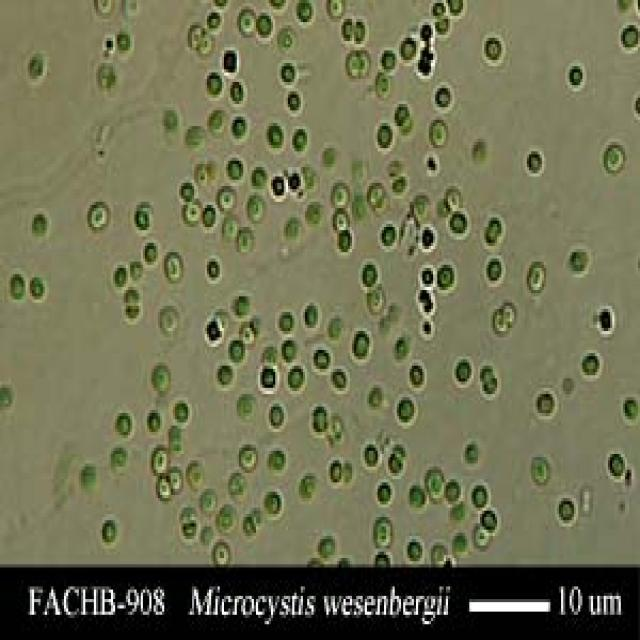Blue Green Algae: (371, 116, 397, 154), (482, 32, 506, 72), (235, 441, 262, 476), (245, 189, 269, 227), (482, 214, 508, 249), (254, 10, 277, 48), (482, 252, 506, 287), (134, 198, 156, 236), (618, 19, 640, 57), (450, 356, 476, 388), (262, 117, 286, 151), (371, 514, 395, 548), (563, 60, 589, 91), (224, 151, 247, 186), (335, 227, 356, 265), (352, 328, 373, 366), (171, 394, 192, 432), (602, 142, 625, 176), (164, 249, 186, 284), (228, 110, 252, 142), (358, 255, 382, 287), (226, 337, 252, 366), (211, 362, 237, 391), (85, 202, 109, 233), (535, 388, 559, 419), (260, 486, 284, 517), (26, 50, 49, 82), (395, 394, 418, 426), (446, 208, 471, 237), (397, 32, 418, 66), (267, 404, 288, 438), (158, 303, 181, 334), (215, 504, 239, 533), (228, 76, 250, 107), (198, 202, 220, 233), (258, 363, 280, 394), (296, 470, 318, 501), (100, 514, 120, 548), (203, 104, 224, 136), (378, 47, 399, 79), (288, 126, 311, 155), (523, 148, 546, 177), (284, 82, 303, 117), (408, 359, 427, 394), (429, 117, 450, 148), (378, 218, 399, 249), (286, 363, 307, 394), (557, 492, 576, 526), (427, 467, 446, 501), (360, 441, 382, 470), (375, 479, 397, 508), (582, 350, 602, 381), (247, 161, 269, 189), (196, 489, 218, 517), (152, 363, 170, 397), (116, 407, 134, 441), (28, 274, 49, 303), (203, 255, 224, 284), (282, 334, 303, 363), (30, 211, 49, 243), (205, 69, 224, 101), (408, 479, 427, 511), (277, 60, 301, 85), (344, 47, 361, 82), (237, 221, 256, 252), (438, 262, 457, 293), (301, 300, 320, 331), (331, 366, 350, 397), (145, 407, 164, 438), (139, 240, 160, 268), (331, 180, 352, 208), (433, 82, 454, 110), (8, 271, 26, 303), (326, 457, 344, 489), (168, 467, 188, 495), (621, 394, 640, 423), (113, 28, 132, 57), (405, 536, 427, 561), (311, 347, 333, 372), (177, 176, 198, 202), (237, 3, 254, 35), (350, 16, 369, 44), (529, 262, 546, 293), (365, 180, 386, 205), (303, 202, 324, 227), (278, 306, 296, 334), (472, 482, 491, 508), (183, 126, 205, 148), (203, 9, 224, 32), (111, 262, 128, 290), (608, 451, 625, 479), (152, 444, 168, 473), (480, 508, 499, 532), (444, 480, 463, 504), (284, 218, 303, 242), (232, 296, 252, 318), (292, 3, 314, 22), (482, 376, 499, 400), (154, 476, 170, 501), (339, 16, 354, 41), (435, 16, 452, 38)
